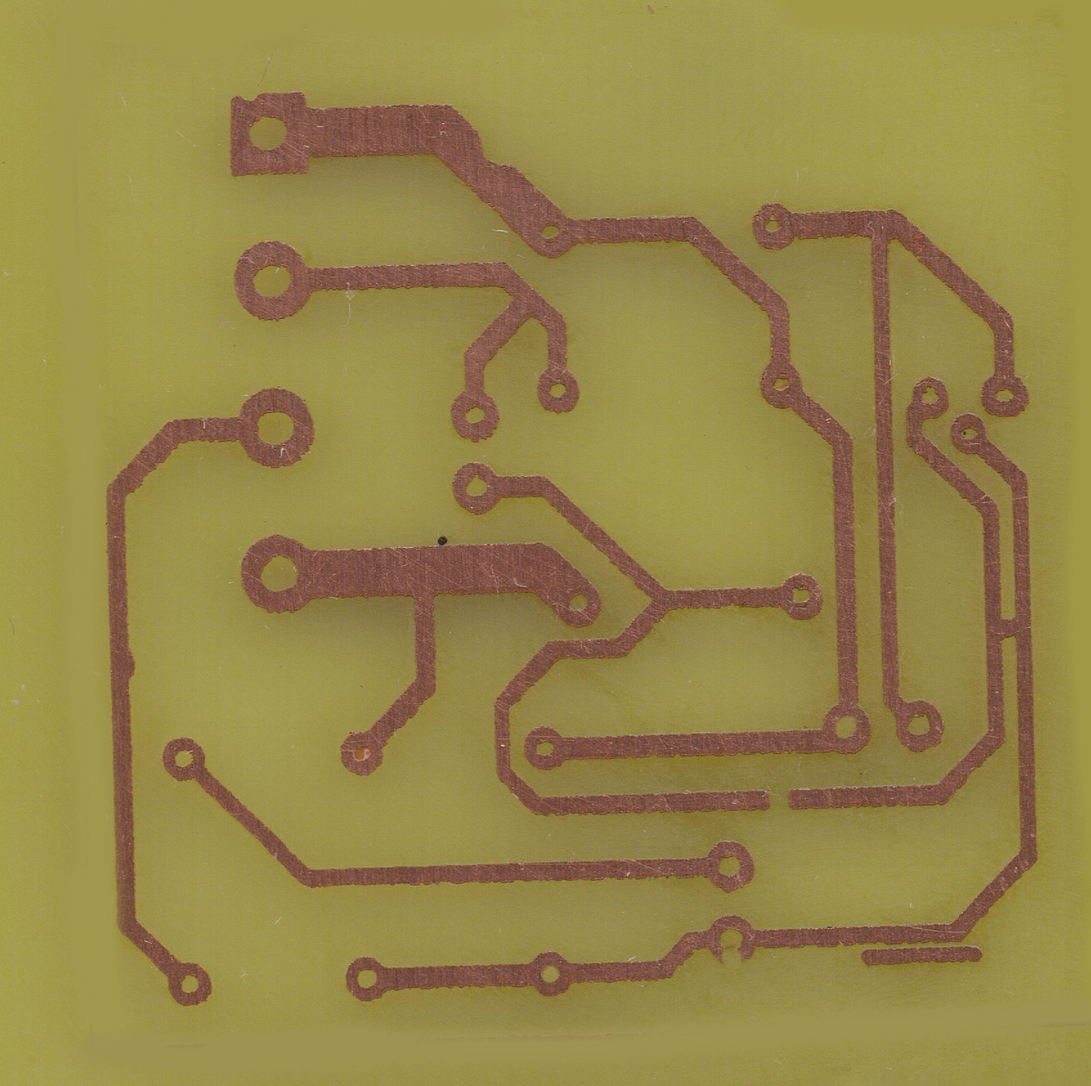missing_hole: (703, 913, 756, 970)
mouse_bite: (467, 125, 528, 181)
open_circuit: (754, 781, 809, 817)
short: (981, 610, 1036, 647)
spur: (105, 644, 144, 684)
spurious_copper: (858, 944, 986, 967)
